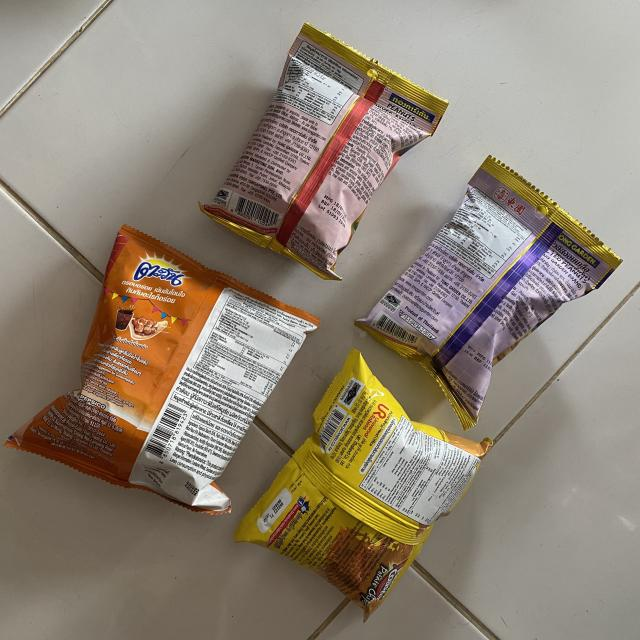plastik: (5, 225, 320, 514), (355, 156, 621, 429), (234, 350, 491, 620), (200, 24, 448, 280)
